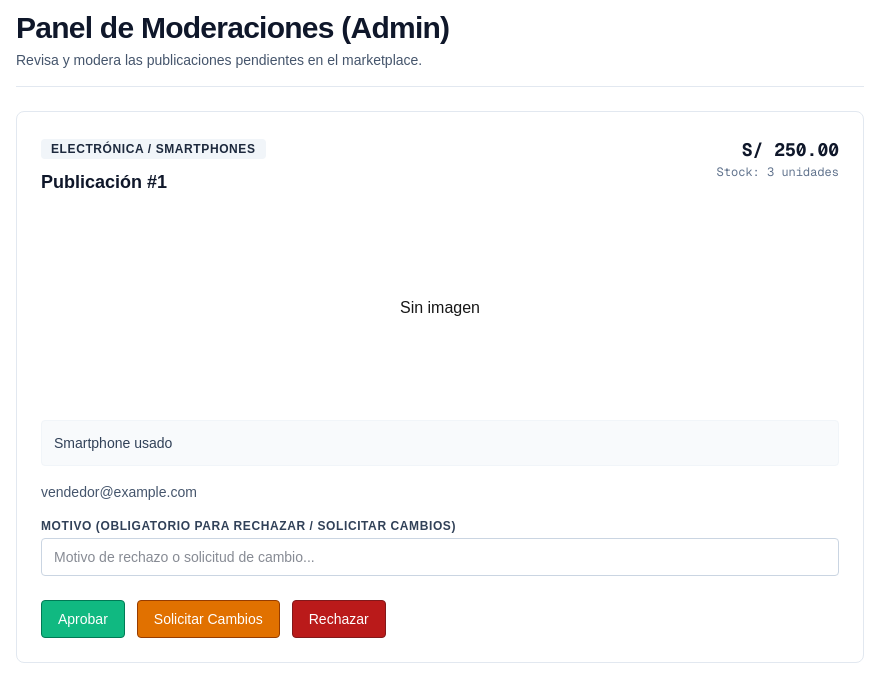
Test: PanelModeracion (PHA02TSK13) › bloquea el envío y muestra error si se intenta Rechazar o Solicitar Cambios sin motivo
Click the button "Rechazar" at {"x": 339, "y": 619}, box x1=292 y1=600 x2=386 y2=638
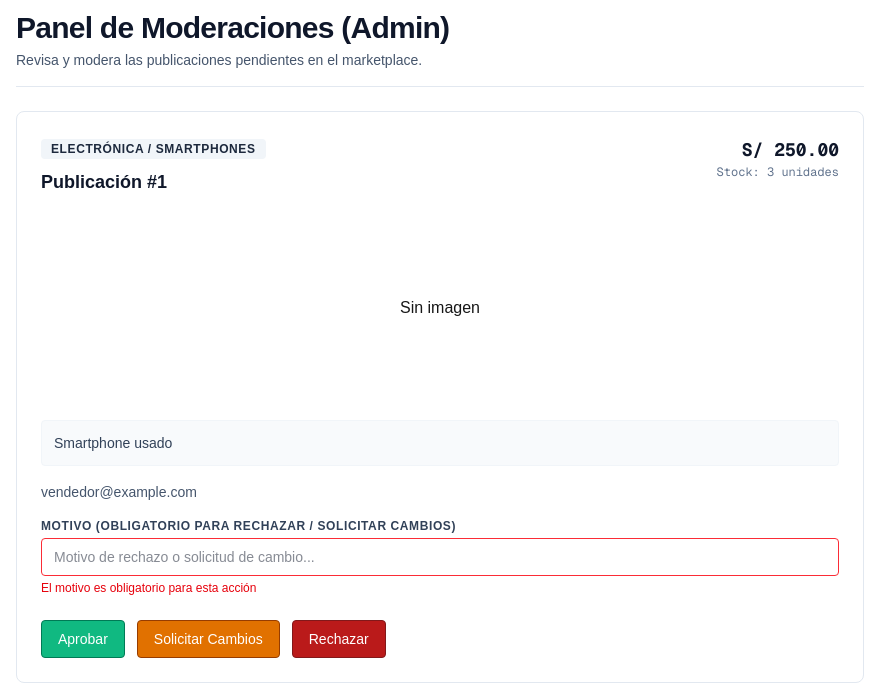
Check: the text "El motivo es obligatorio para esta acción" is shown, box x1=41 y1=581 x2=256 y2=595
